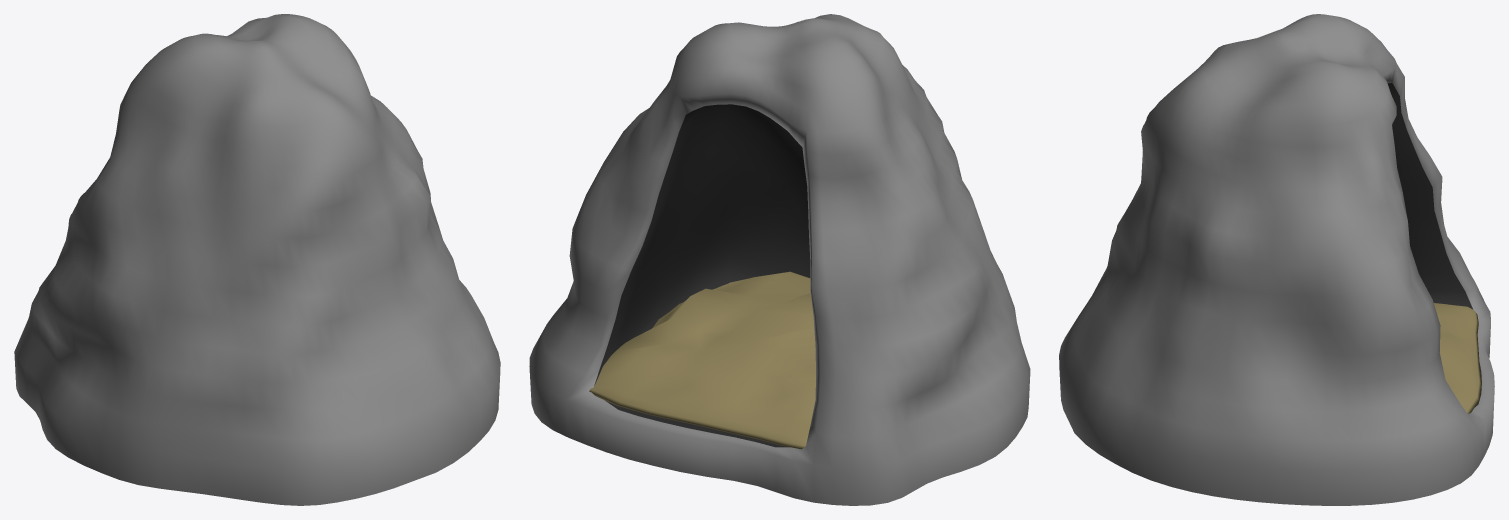
The model's file is Cave1.fbx.
The picture shows the model from 3 angles, left to right: view 1: azimuth 30°, elevation 25°; view 2: azimuth 150°, elevation 25°; view 3: azimuth 270°, elevation 25°; orthographic projection. The views are drawn at different scales.
Visible parts, largest first — view 1: Magara; view 2: Magara; view 3: Magara.
Part boxes in pixels (left/top/right/bottom): Magara: left=14, top=14, right=500, bottom=505; Magara: left=529, top=14, right=1030, bottom=505; Magara: left=1059, top=14, right=1494, bottom=505.
Size of the model in its own units: 642 by 544 by 589.
